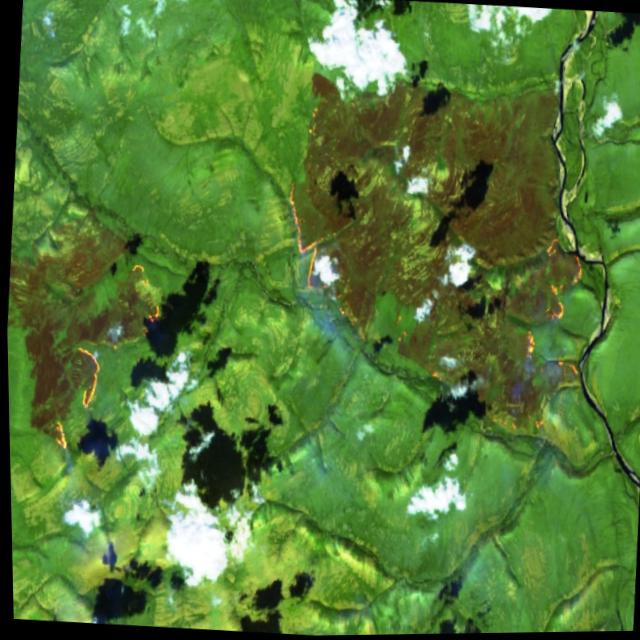fire: (15, 243, 163, 466), (498, 227, 597, 412), (267, 162, 340, 313), (386, 307, 424, 357)
